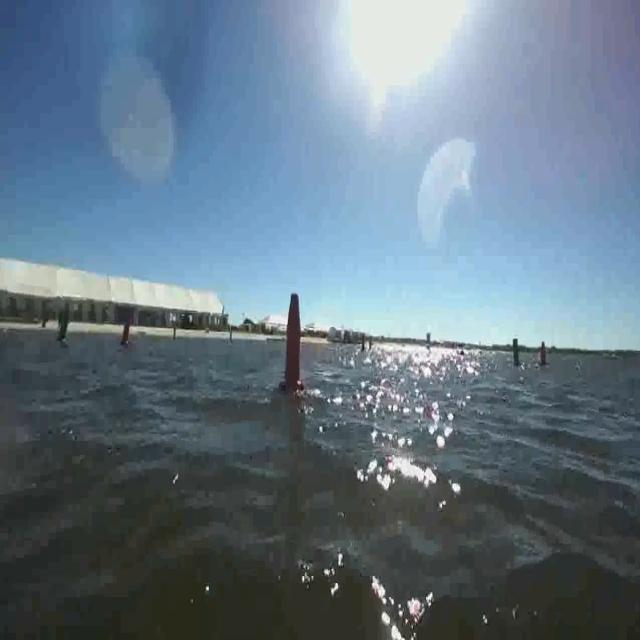green-column-buoy: (55, 303, 73, 345), (509, 338, 520, 369)
red-column-buoy: (280, 290, 305, 394), (118, 311, 135, 351), (537, 342, 548, 368)
